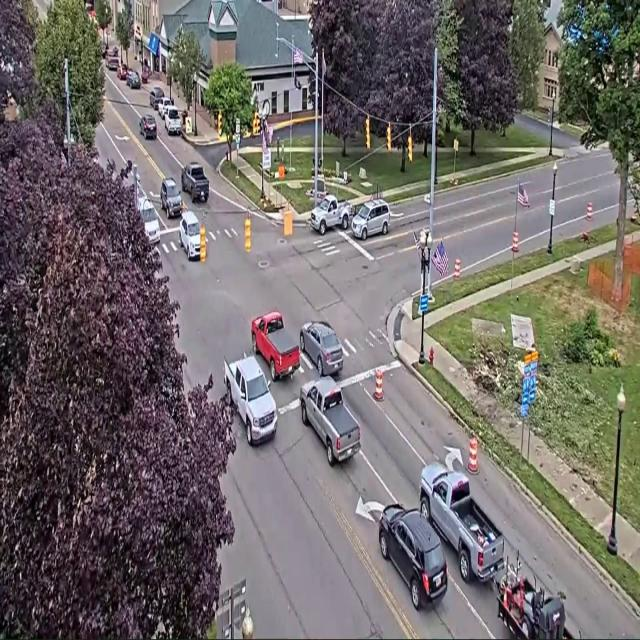car: (379, 504, 448, 609), (300, 321, 343, 376), (352, 200, 390, 239), (179, 210, 200, 260), (138, 197, 159, 243), (160, 178, 182, 217), (164, 105, 181, 135), (140, 114, 157, 139), (157, 96, 173, 119), (150, 87, 164, 110), (127, 70, 141, 88), (106, 52, 119, 71), (141, 66, 151, 84), (117, 64, 128, 80)
traffic signal: (200, 226, 206, 262), (245, 215, 250, 252), (253, 112, 259, 135), (366, 117, 370, 149), (408, 134, 412, 162), (387, 124, 391, 151), (217, 112, 221, 135)
truck: (420, 463, 504, 582), (494, 560, 574, 639), (300, 377, 360, 466), (224, 356, 277, 445), (251, 312, 299, 381), (310, 195, 352, 235), (181, 163, 209, 202)
